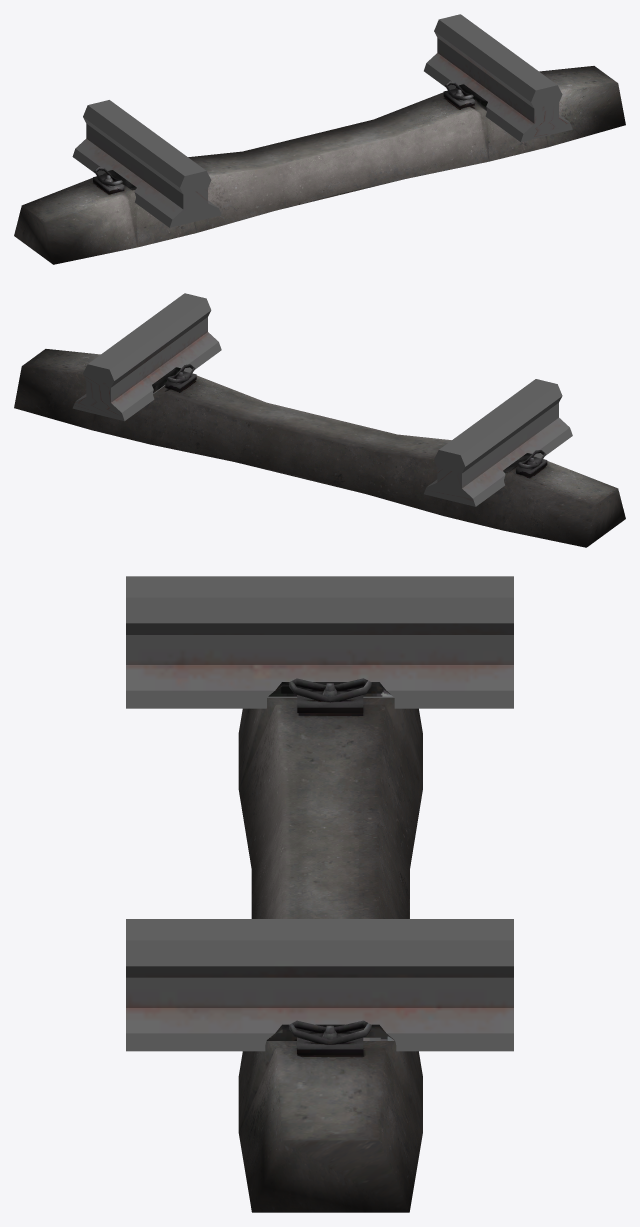
File: SM_Track_Concrete.FBX
3 views of the same model, one above another, from view 1: azimuth 30°, elevation 25°; view 2: azimuth 150°, elevation 25°; view 3: azimuth 270°, elevation 25° (orthographic). The views are drawn at different scales.
Parts seen in each view (by area): view 1: SM_Track_Concrete; view 2: SM_Track_Concrete; view 3: SM_Track_Concrete.
Part boxes in pixels (bbox=[...]): SM_Track_Concrete: bbox=[14, 14, 625, 264]; SM_Track_Concrete: bbox=[14, 293, 625, 547]; SM_Track_Concrete: bbox=[126, 576, 513, 1212].
Bounding box in the file's own units: 262 × 76.93 × 38.21.
